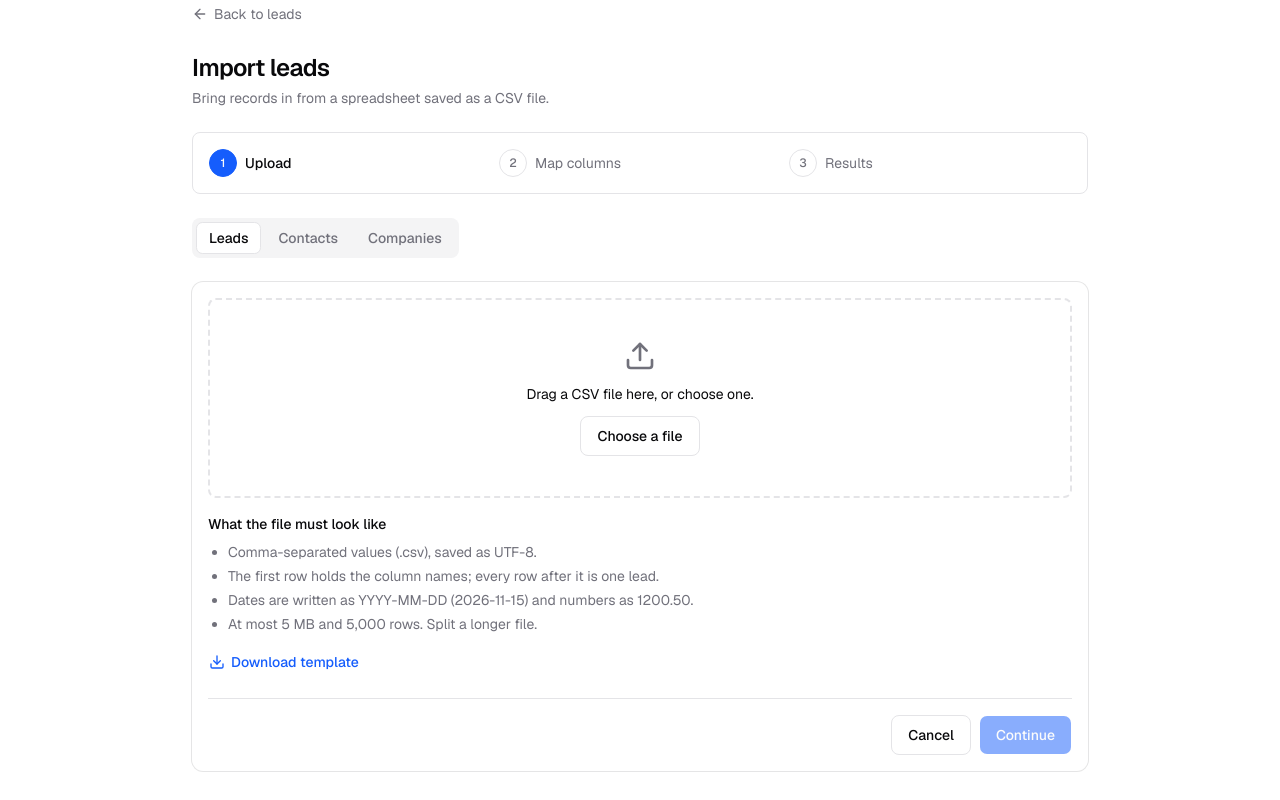
it: ImportPage › step 1: the file › changes the type on the page
Check: the button "Choose a file" is shown, box [580,416,700,456]
Click the button "Companies".
click(405, 238)  # box [355,222,455,254]
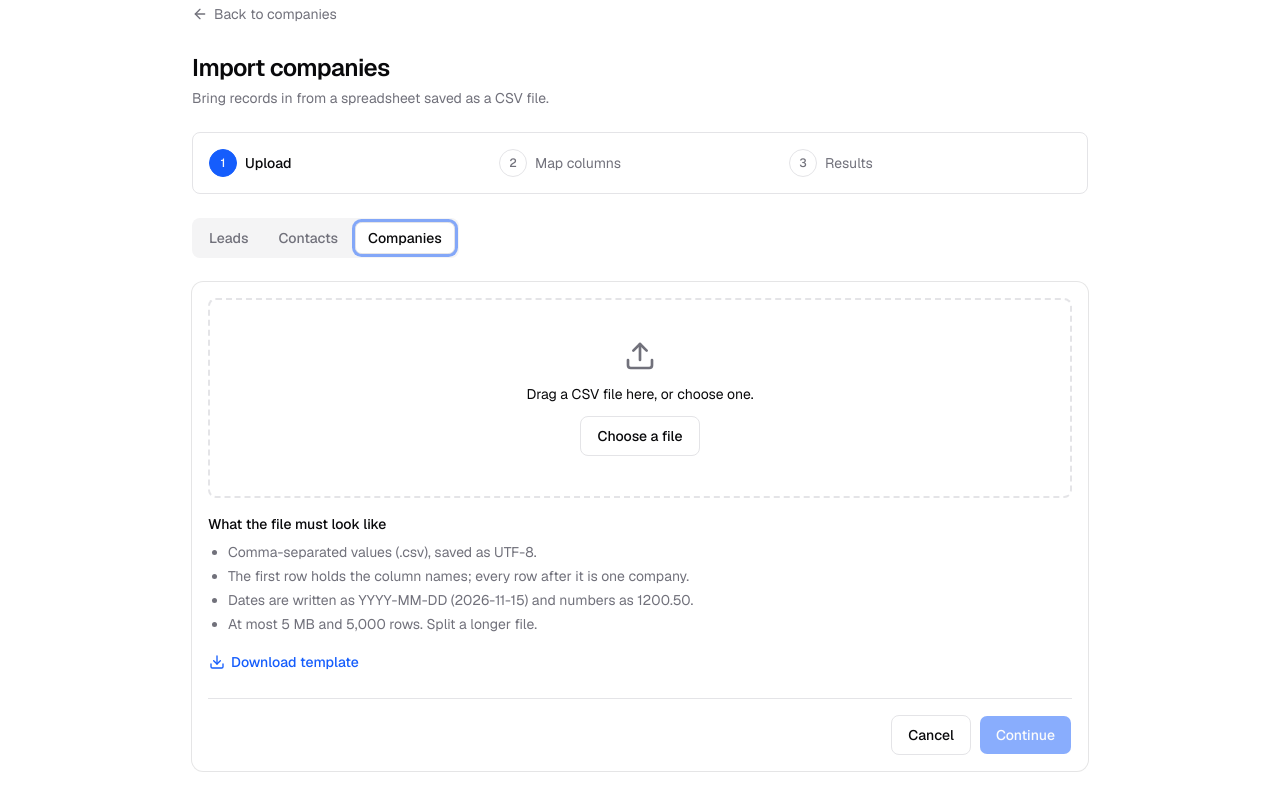
Check: the heading "Import companies" is shown, box [192,52,390,83]
